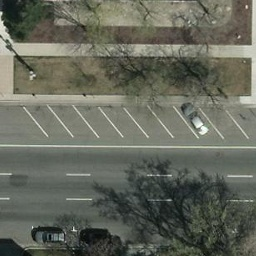car: (180, 103, 209, 137), (81, 232, 110, 249), (34, 229, 64, 245)
